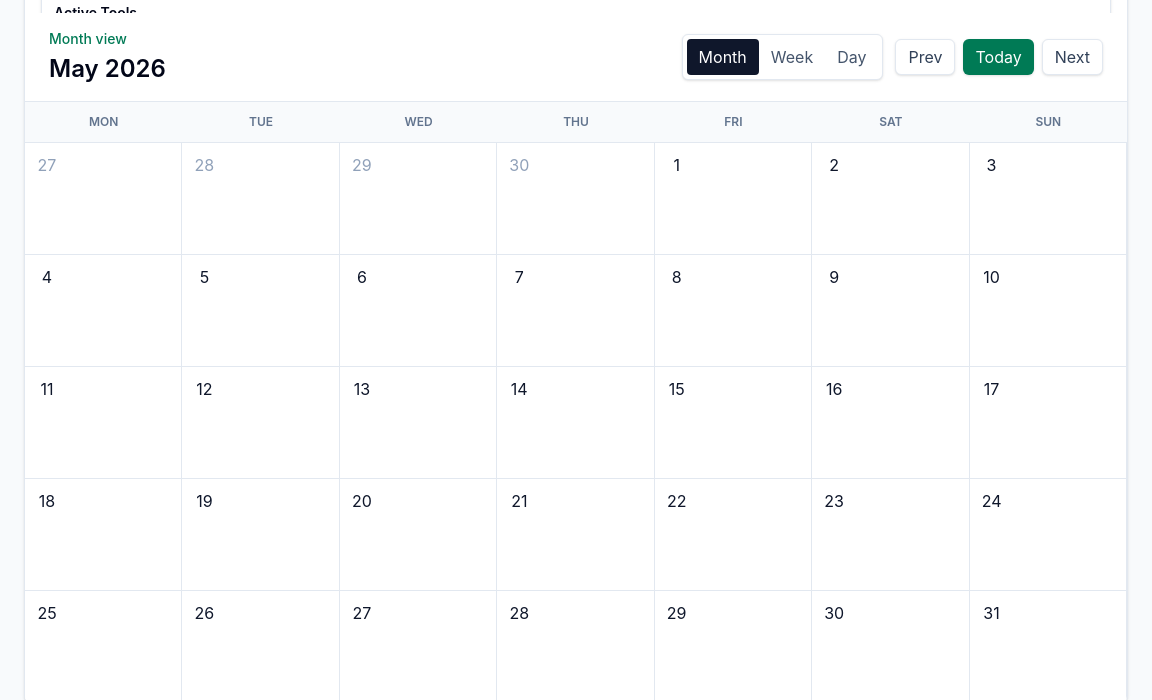
Scenario: Event CRUD - integration › clicking an empty date slot opens event details in create mode
The image size is (1152, 700).
(page scrolled)
Click the button named "Mon, 2026-05-25". click: click(47, 613)
box: [33, 599, 61, 627]
(page scrolled)
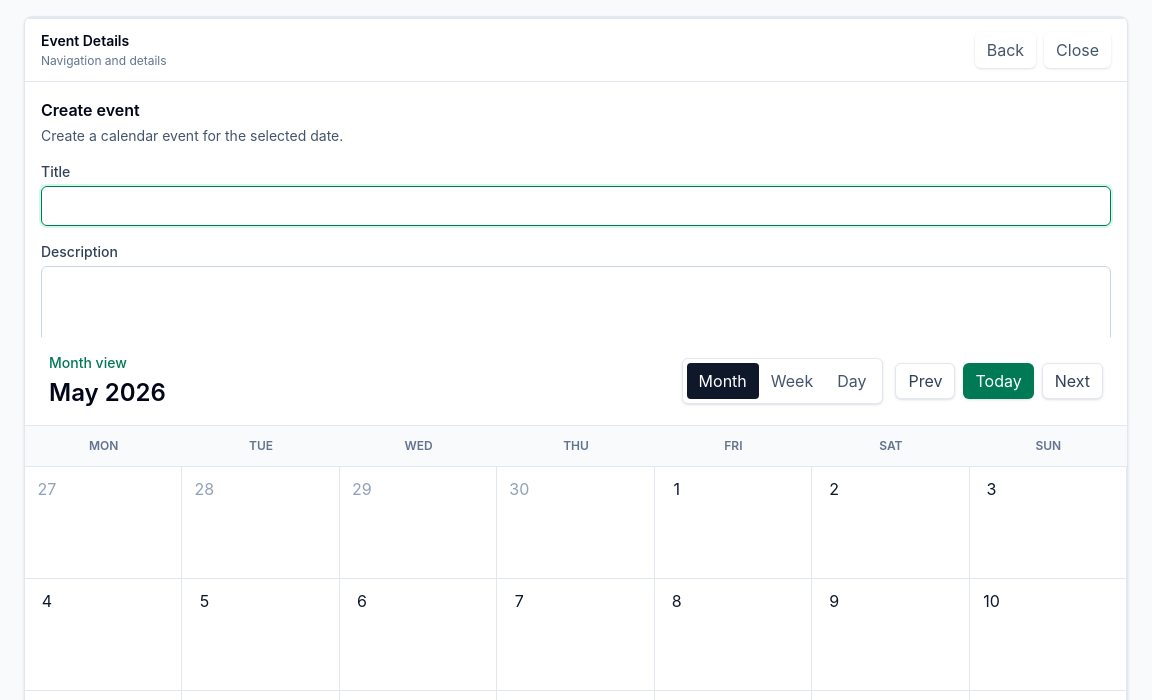
Expected: the heading "Create event" is shown, [41, 100, 140, 120]
